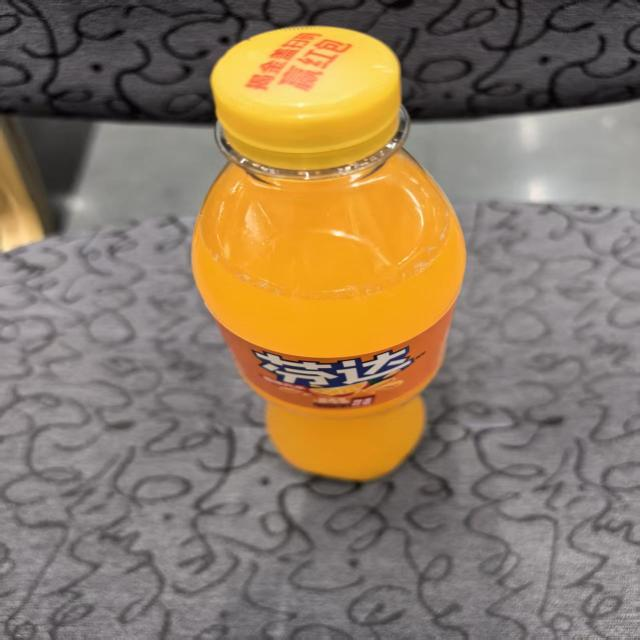orange: (247, 344, 422, 413)
